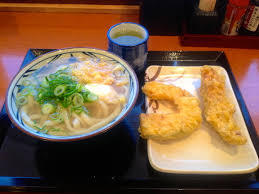pumpkin: (143, 82, 201, 142)
